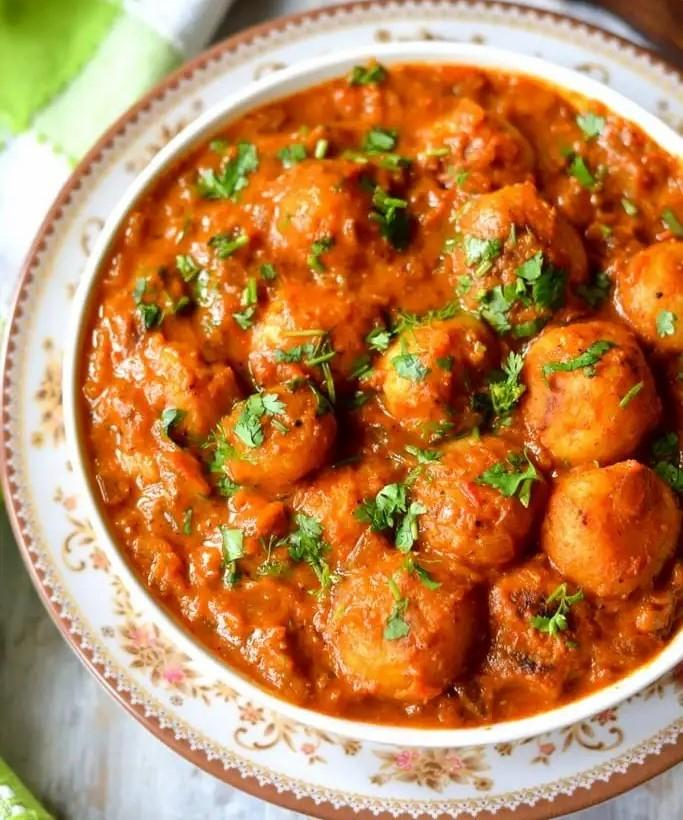DumAloo: (72, 55, 683, 729)
